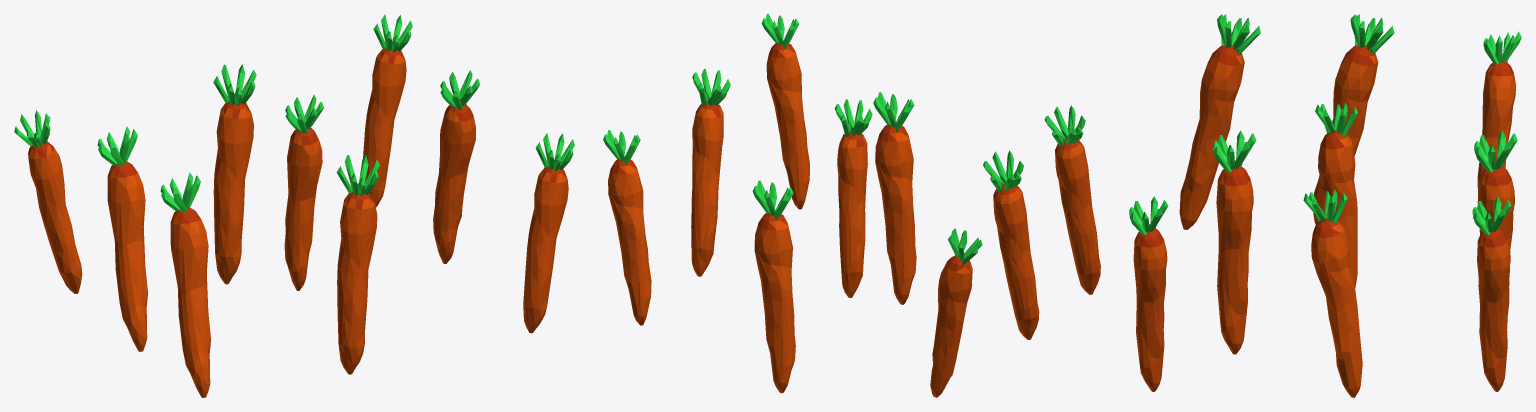
Rendered from Carrots.fbx.
3 renders of one model, left to right at view 1: azimuth 30°, elevation 25°; view 2: azimuth 150°, elevation 25°; view 3: azimuth 270°, elevation 25°, orthographic. The views are drawn at different scales.
Visible parts, largest first — view 1: Carrots_joined; view 2: Carrots_joined; view 3: Carrots_joined.
Boxes of the visible parts, x1,y1,x2,y2 form: Carrots_joined: [14, 14, 574, 397]; Carrots_joined: [603, 14, 1100, 397]; Carrots_joined: [1129, 14, 1521, 397].
Size of the model in its own units: 304 by 179 by 251.
